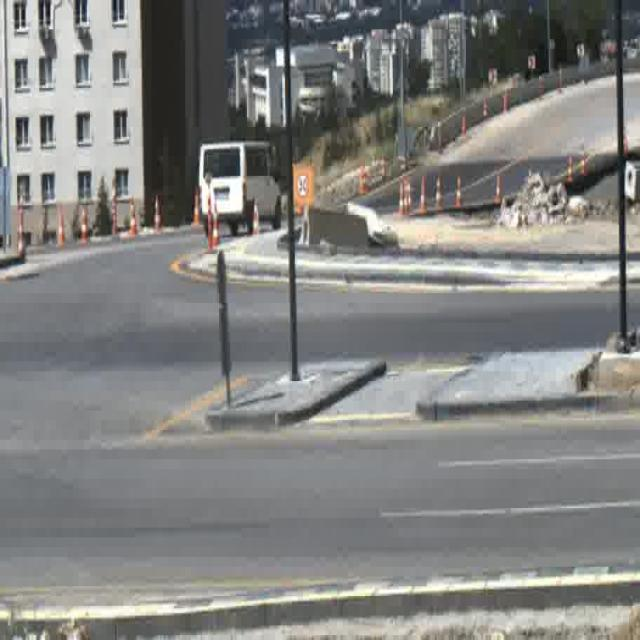Car: (200, 138, 281, 238)
